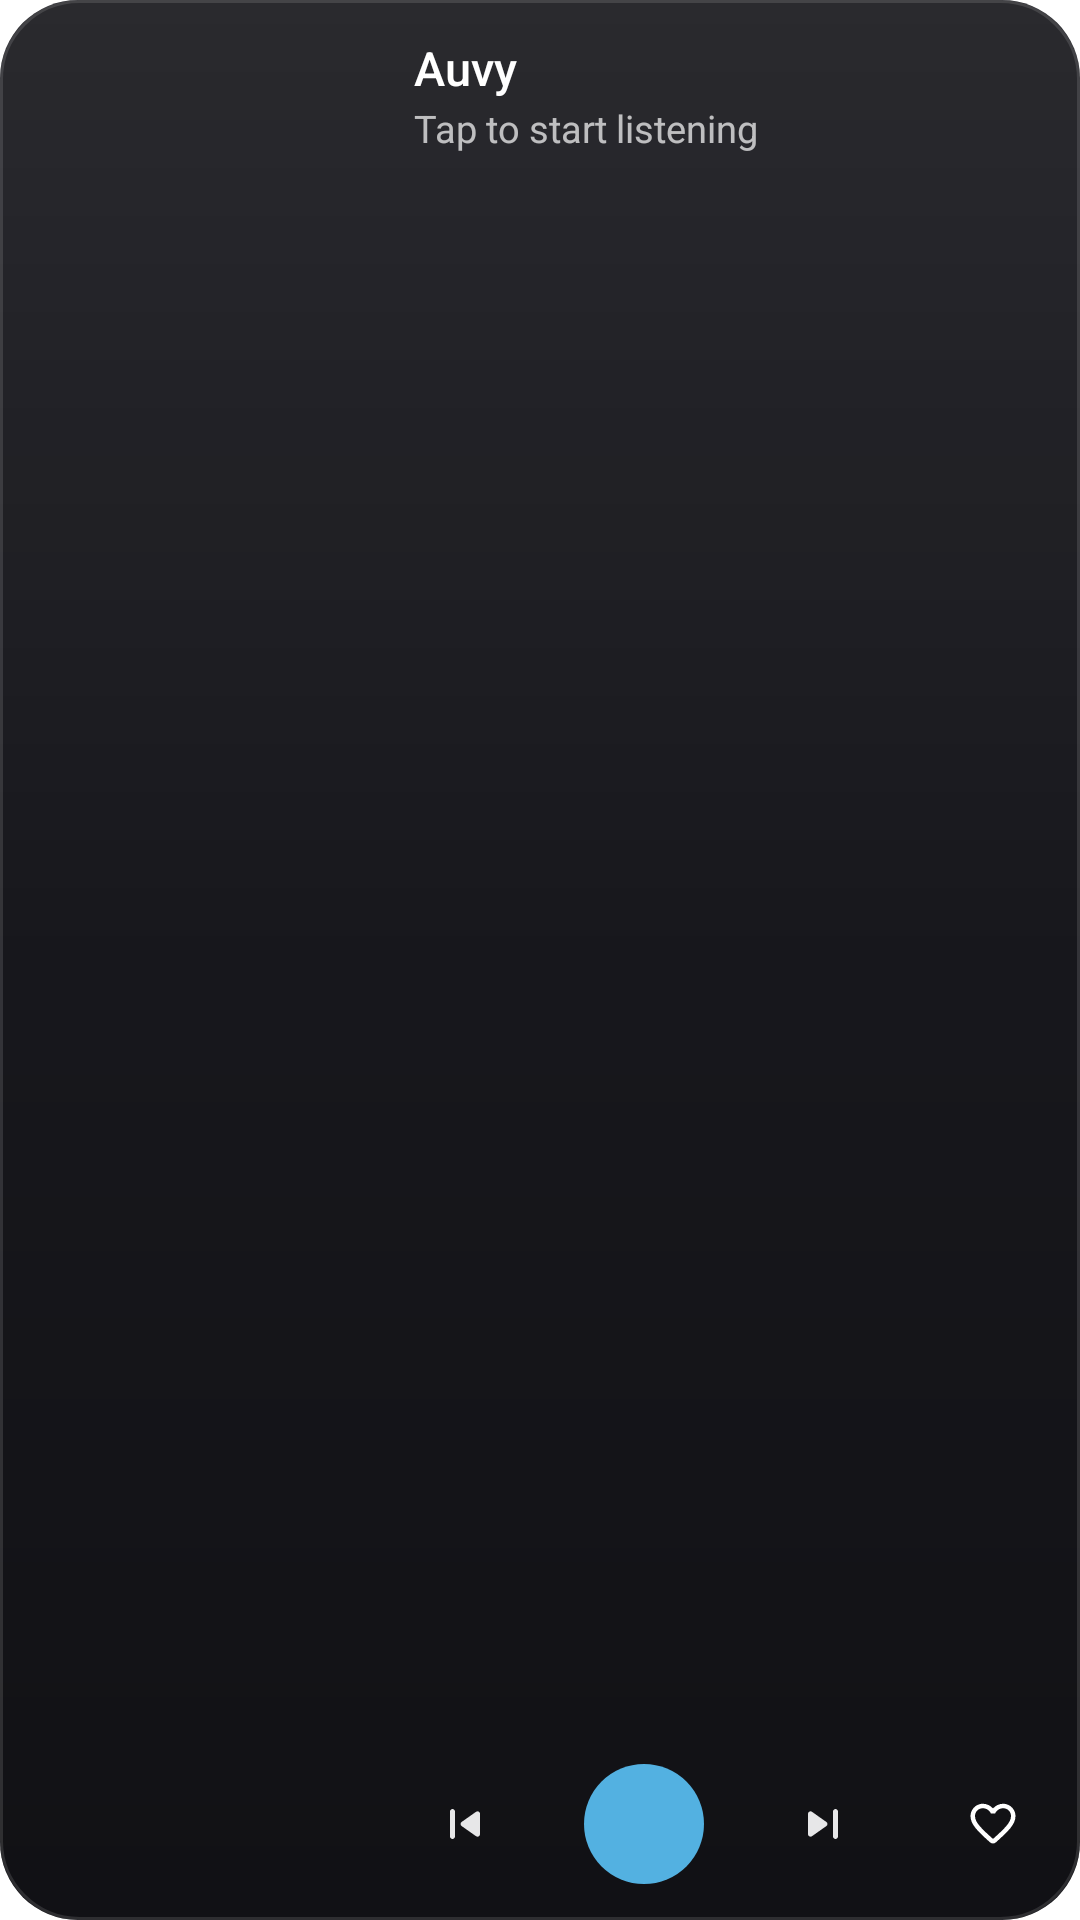

Icon click points for this 1080w x 1920h phone screenshot, format point (x, y):
Like: point (993, 1823)
Next: point (823, 1824)
Previous: point (465, 1824)
